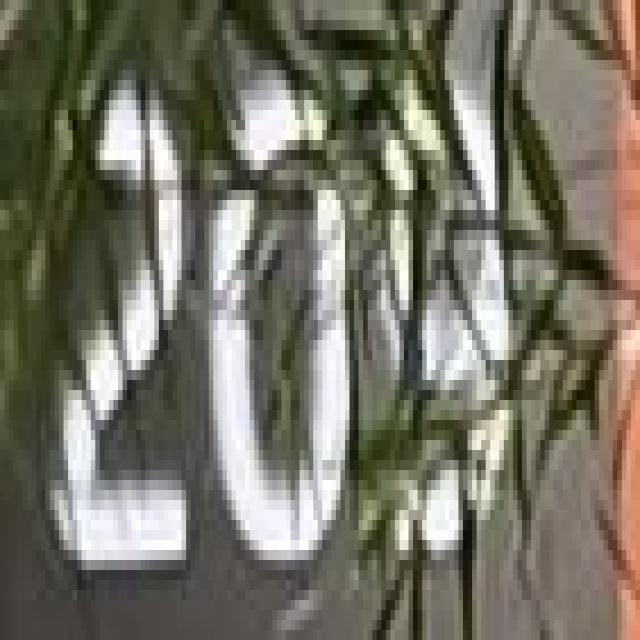character: (362, 46, 517, 566), (206, 59, 353, 576), (48, 62, 192, 587)
